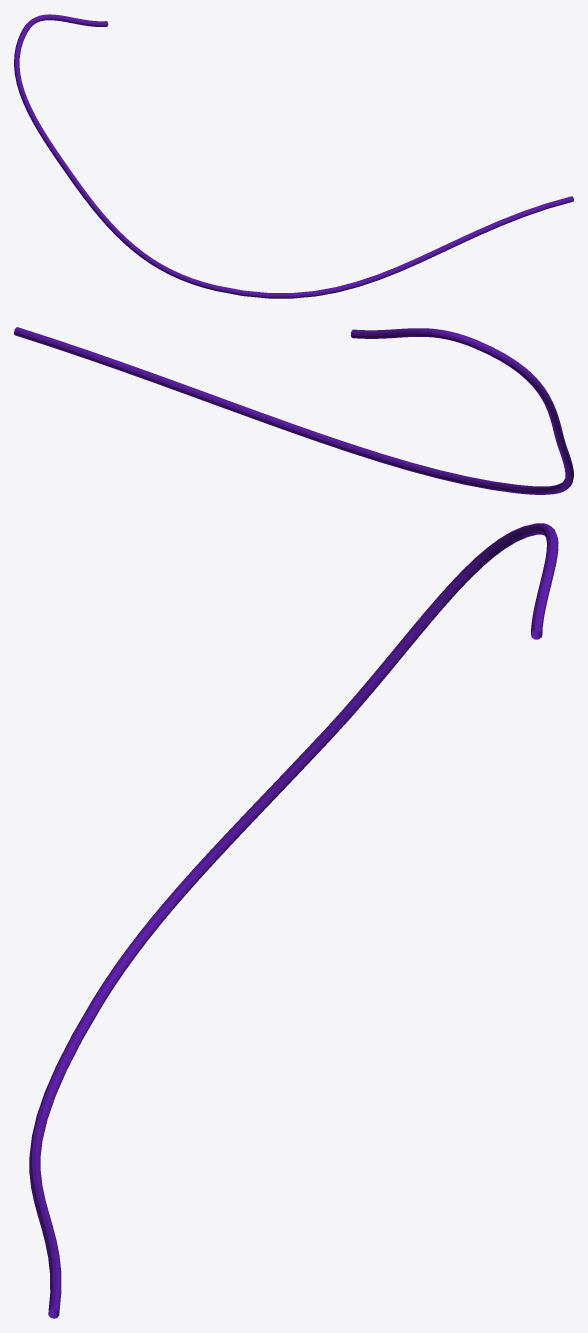
Rendered from GPIO_PWM_right.dae.
The picture shows the model from 3 angles, top to bottom: view 1: azimuth 30°, elevation 25°; view 2: azimuth 150°, elevation 25°; view 3: azimuth 270°, elevation 25°; orthographic projection. The views are drawn at different scales.
Parts seen in each view (by area): view 1: GPIO_PWM_right; view 2: GPIO_PWM_right; view 3: GPIO_PWM_right.
Boxes of the visible parts, box(x1,y1,x2,y2) form: GPIO_PWM_right: box(14, 14, 573, 298); GPIO_PWM_right: box(14, 327, 573, 494); GPIO_PWM_right: box(29, 523, 558, 1318).
Bounding box in the file's own units: 0.0722 × 0.0365 × 0.034.
